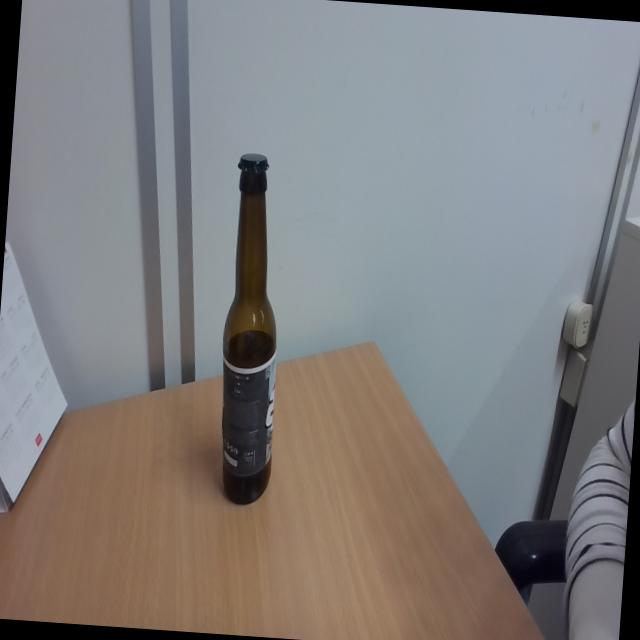Bottle: (212, 149, 292, 506)
Cap: (236, 150, 272, 177)
Label: (216, 350, 276, 478)
